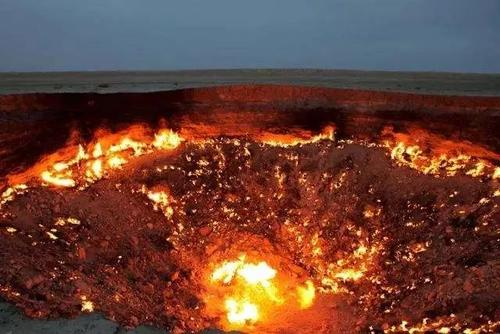fire: (387, 144, 500, 178), (39, 139, 124, 184), (216, 262, 277, 323), (260, 126, 333, 148), (123, 132, 179, 152), (147, 191, 175, 213), (2, 188, 13, 199)
